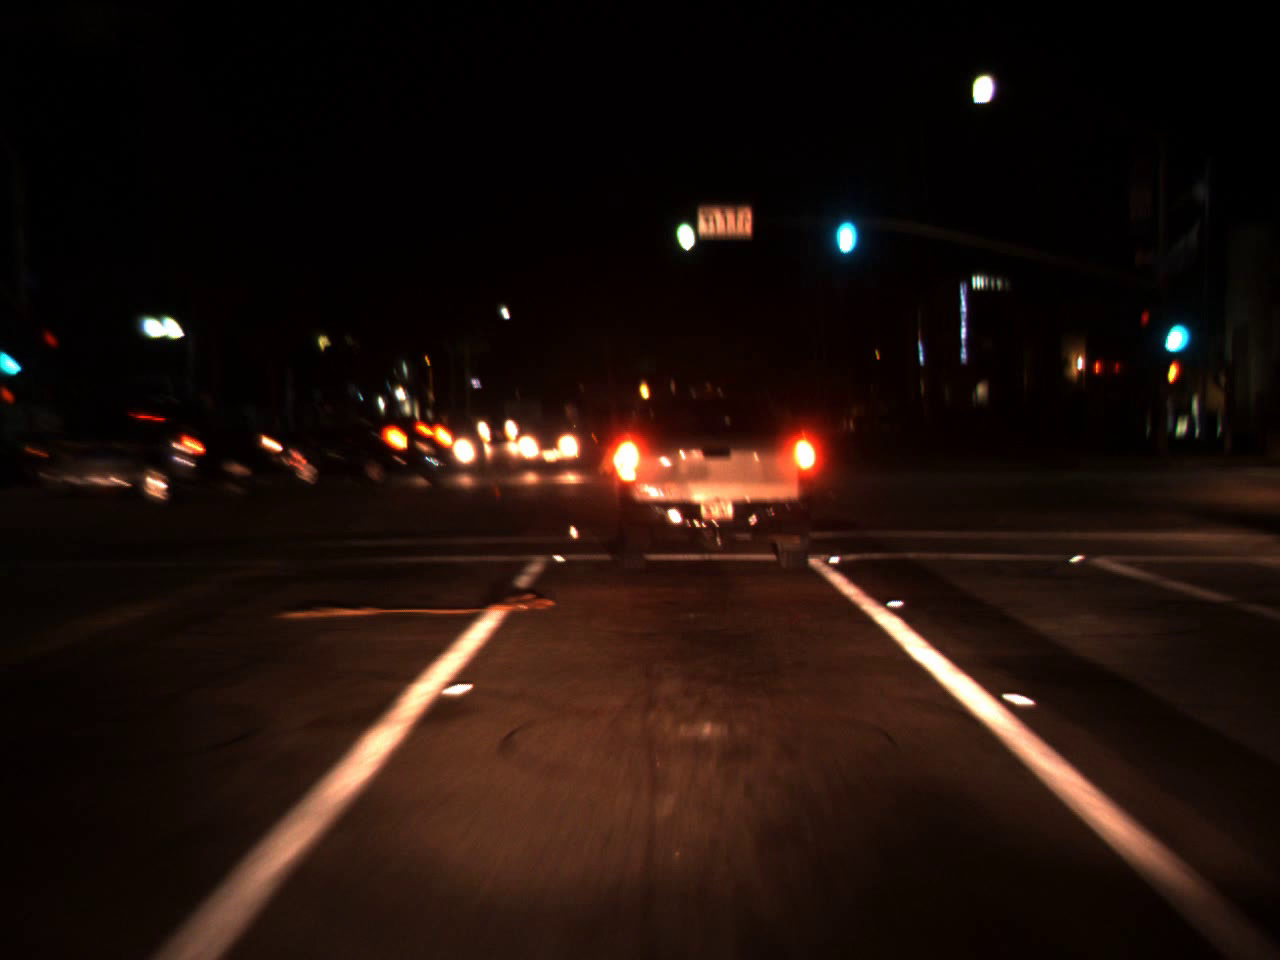go: (827, 182, 861, 263), (670, 188, 698, 257), (1156, 304, 1188, 358), (0, 326, 26, 383)
